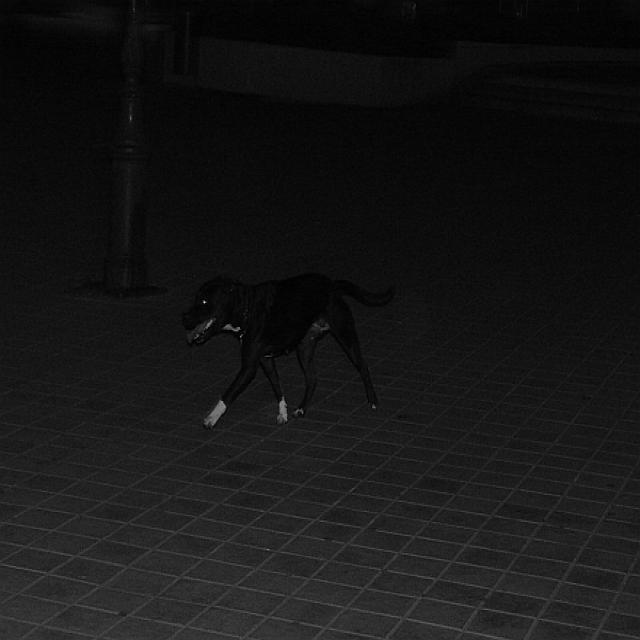dog: (165, 255, 393, 452)
